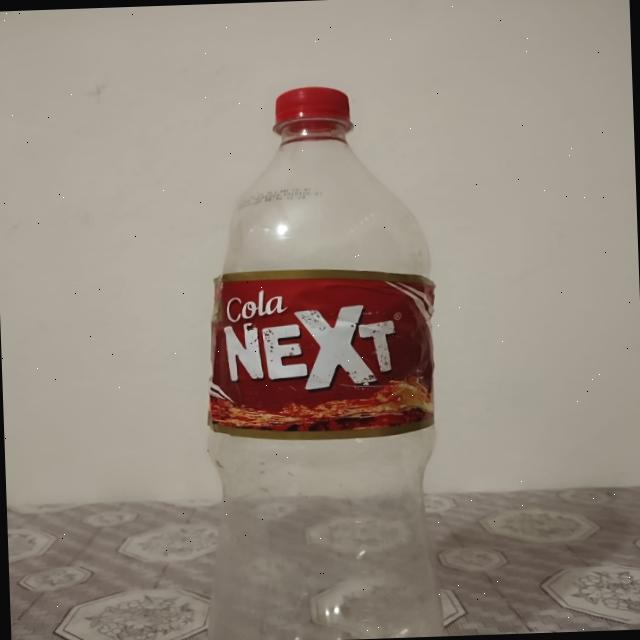bottle: (199, 83, 450, 640)
cap: (275, 85, 353, 123)
label: (205, 266, 440, 445)
